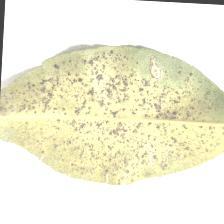canker: (66, 57, 194, 156)
